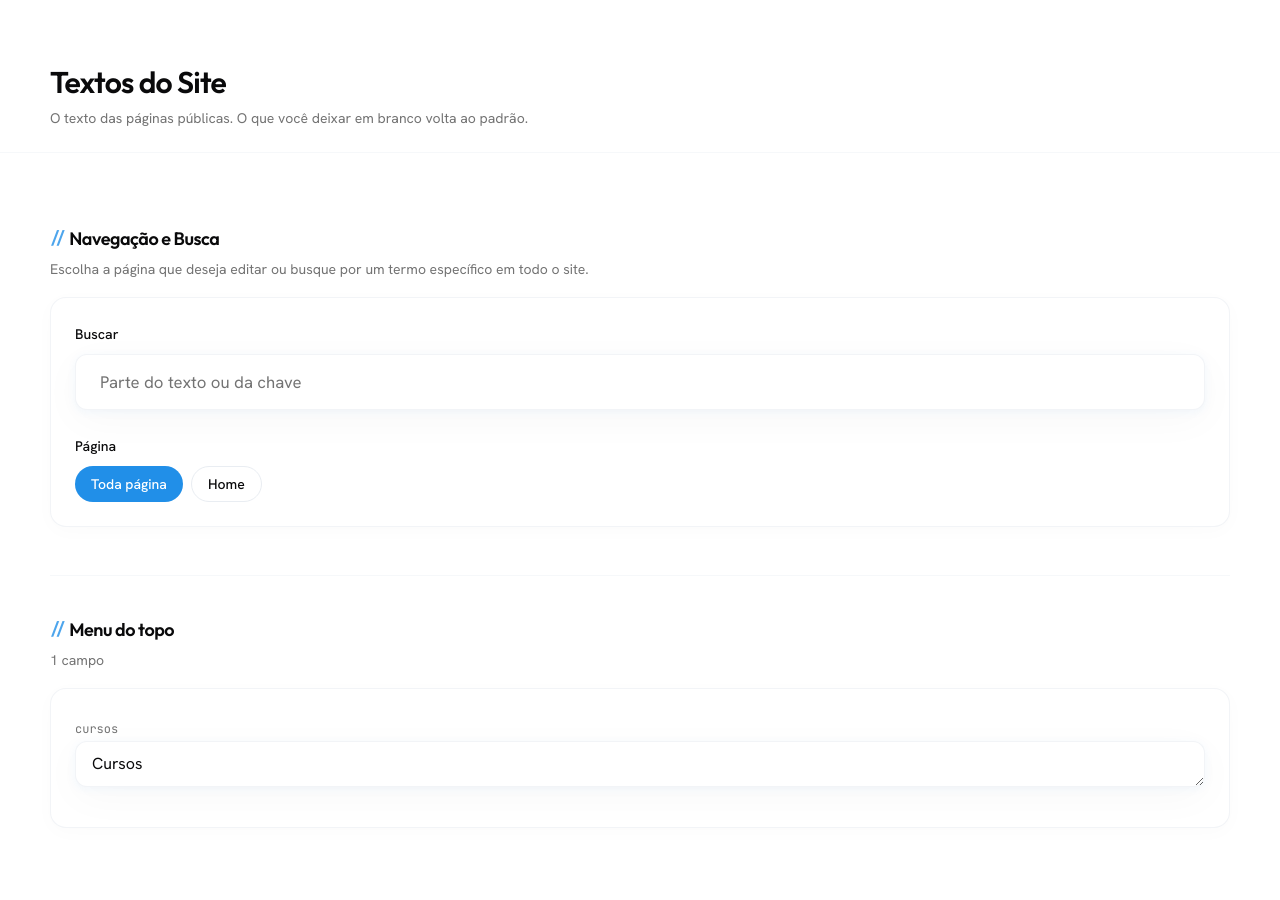
AdminSiteTextPage — uma aba por página › clicar em Home troca o conteúdo
Expected: the heading "Menu do topo" is shown, top-left (69, 616), bottom-right (174, 644)
Click the button "Home".
click(226, 484)  # box top-left (191, 466), bottom-right (262, 502)
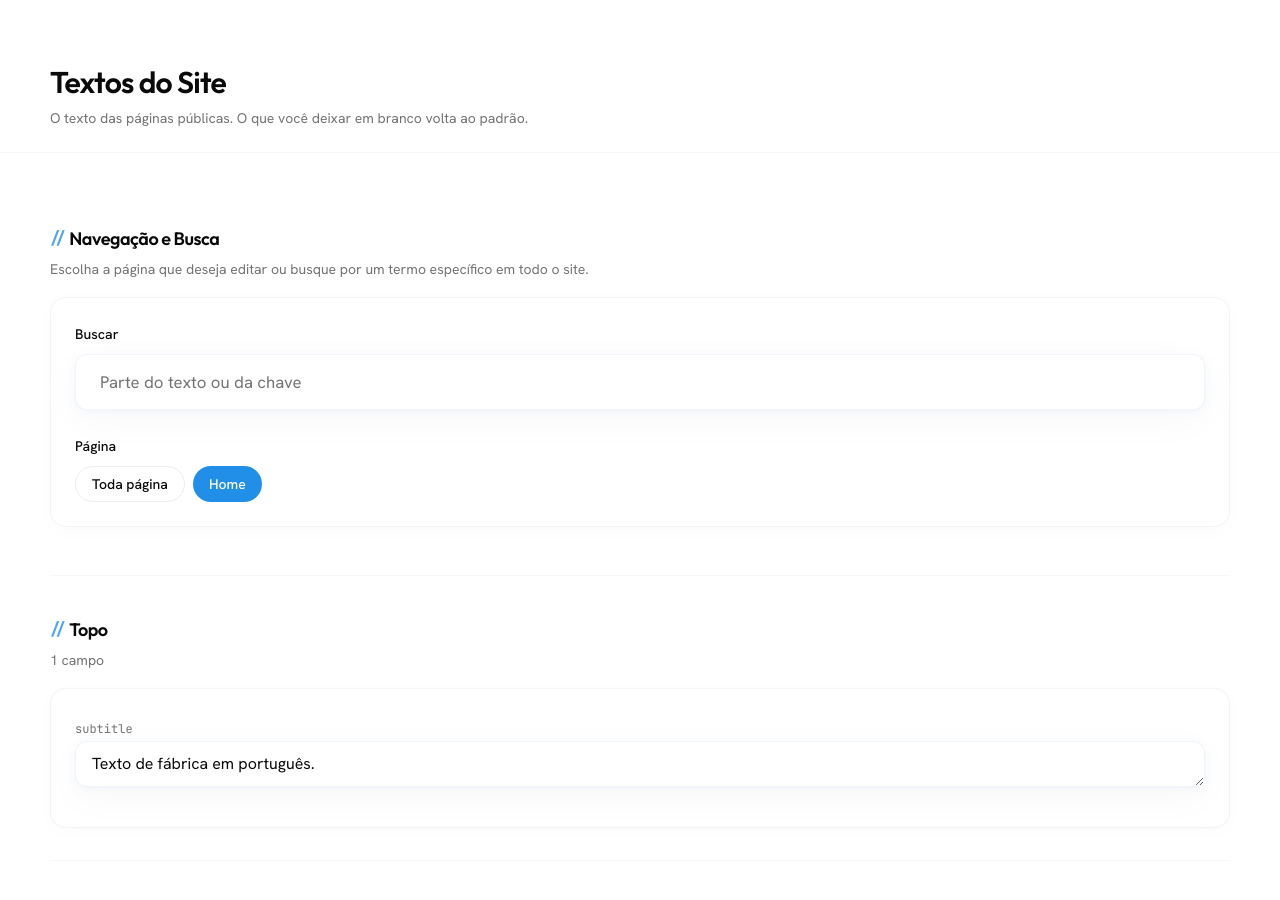
Expected: the heading "Topo" is shown, top-left (69, 616), bottom-right (108, 644)
Expected: the heading "Menu do topo" is gone
